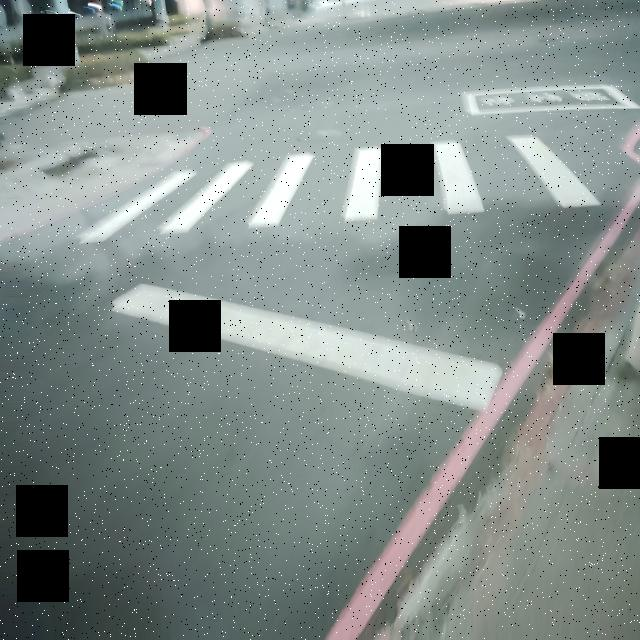zebra crossing: (93, 135, 611, 242)
